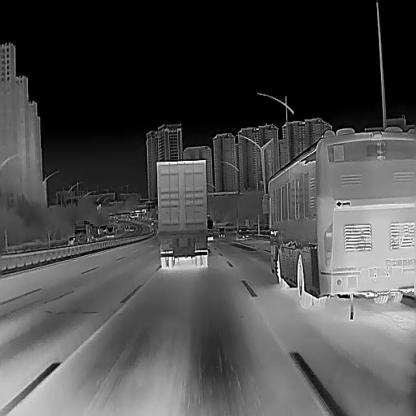bus: (262, 125, 416, 306)
car: (236, 225, 250, 235), (217, 227, 225, 237), (129, 224, 134, 231)
truck: (156, 158, 207, 266), (73, 220, 99, 242)
